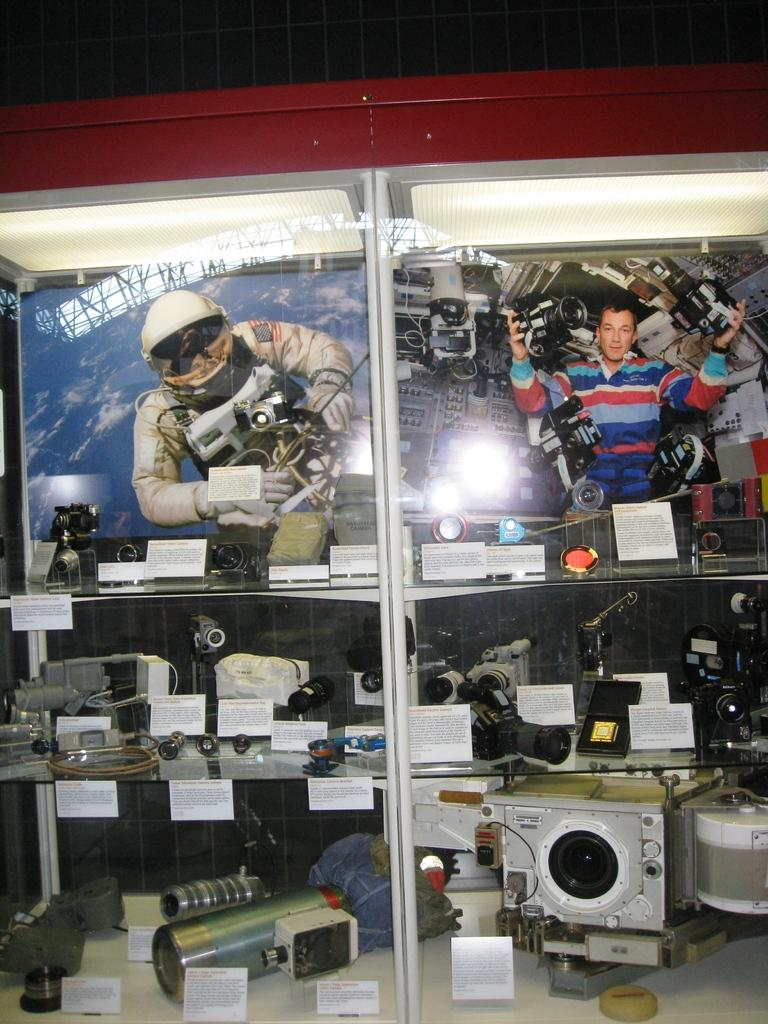helmet: (140, 290, 240, 396)
nohelmet: (595, 303, 638, 362)
